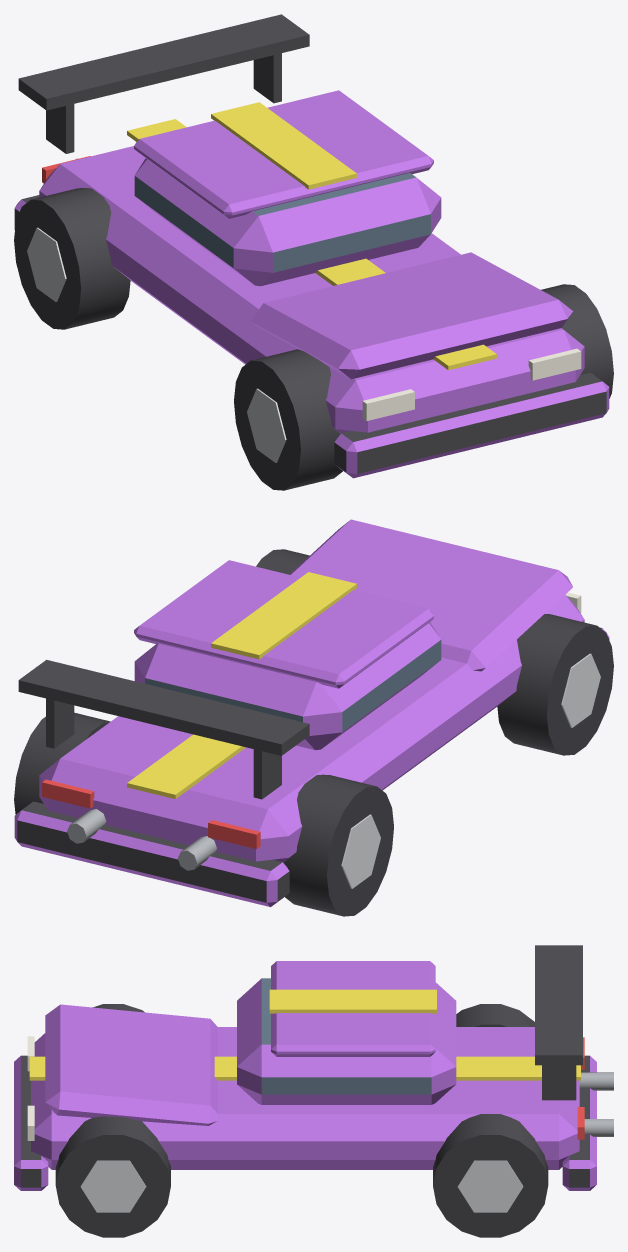
File: rc_car_ai_purple.glb
3 renders of one model, top to bottom at view 1: azimuth 30°, elevation 25°; view 2: azimuth 150°, elevation 25°; view 3: azimuth 270°, elevation 25°, orthographic. The views are drawn at different scales.
Parts seen in each view (by area): view 1: rc_car_ai_purple; view 2: rc_car_ai_purple; view 3: rc_car_ai_purple.
Part boxes in pixels (x1,y1,x2,y2): rc_car_ai_purple: [14, 14, 613, 490]; rc_car_ai_purple: [14, 519, 613, 916]; rc_car_ai_purple: [14, 945, 613, 1237].
Size of the model in its own units: 2.28 by 1.39 by 4.38.
